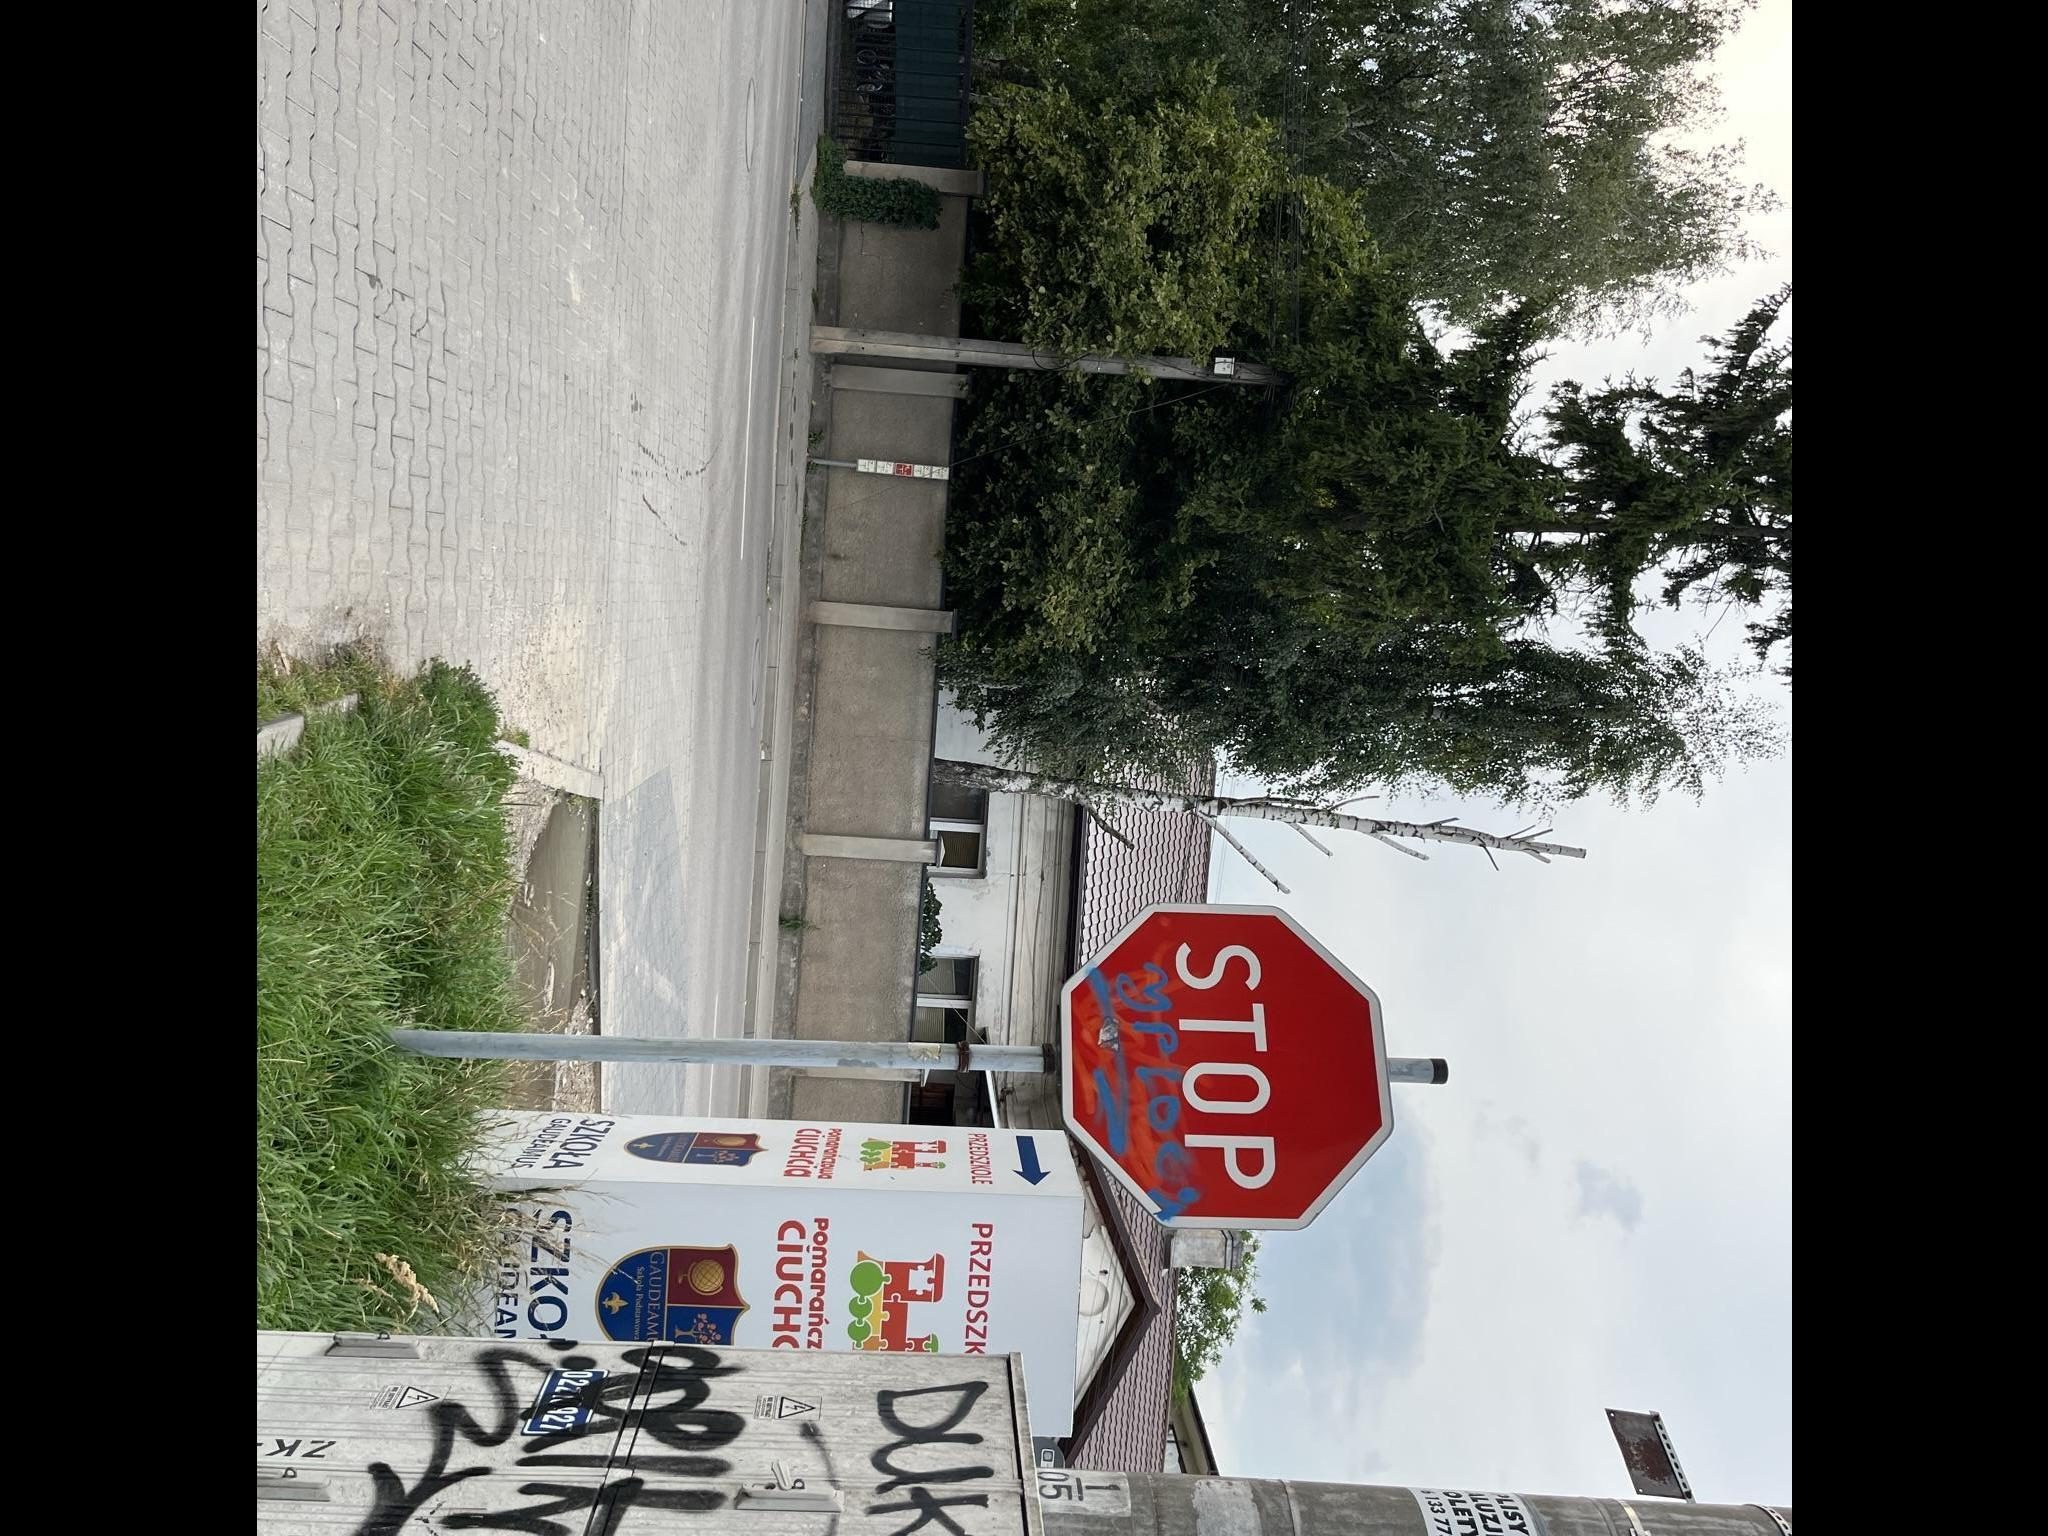prohibitory: (1063, 904, 1393, 1233)
